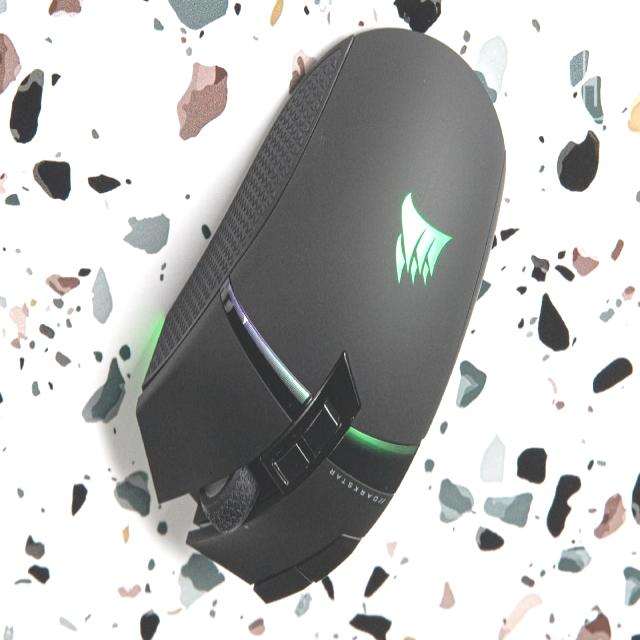souris: (128, 20, 518, 619)
